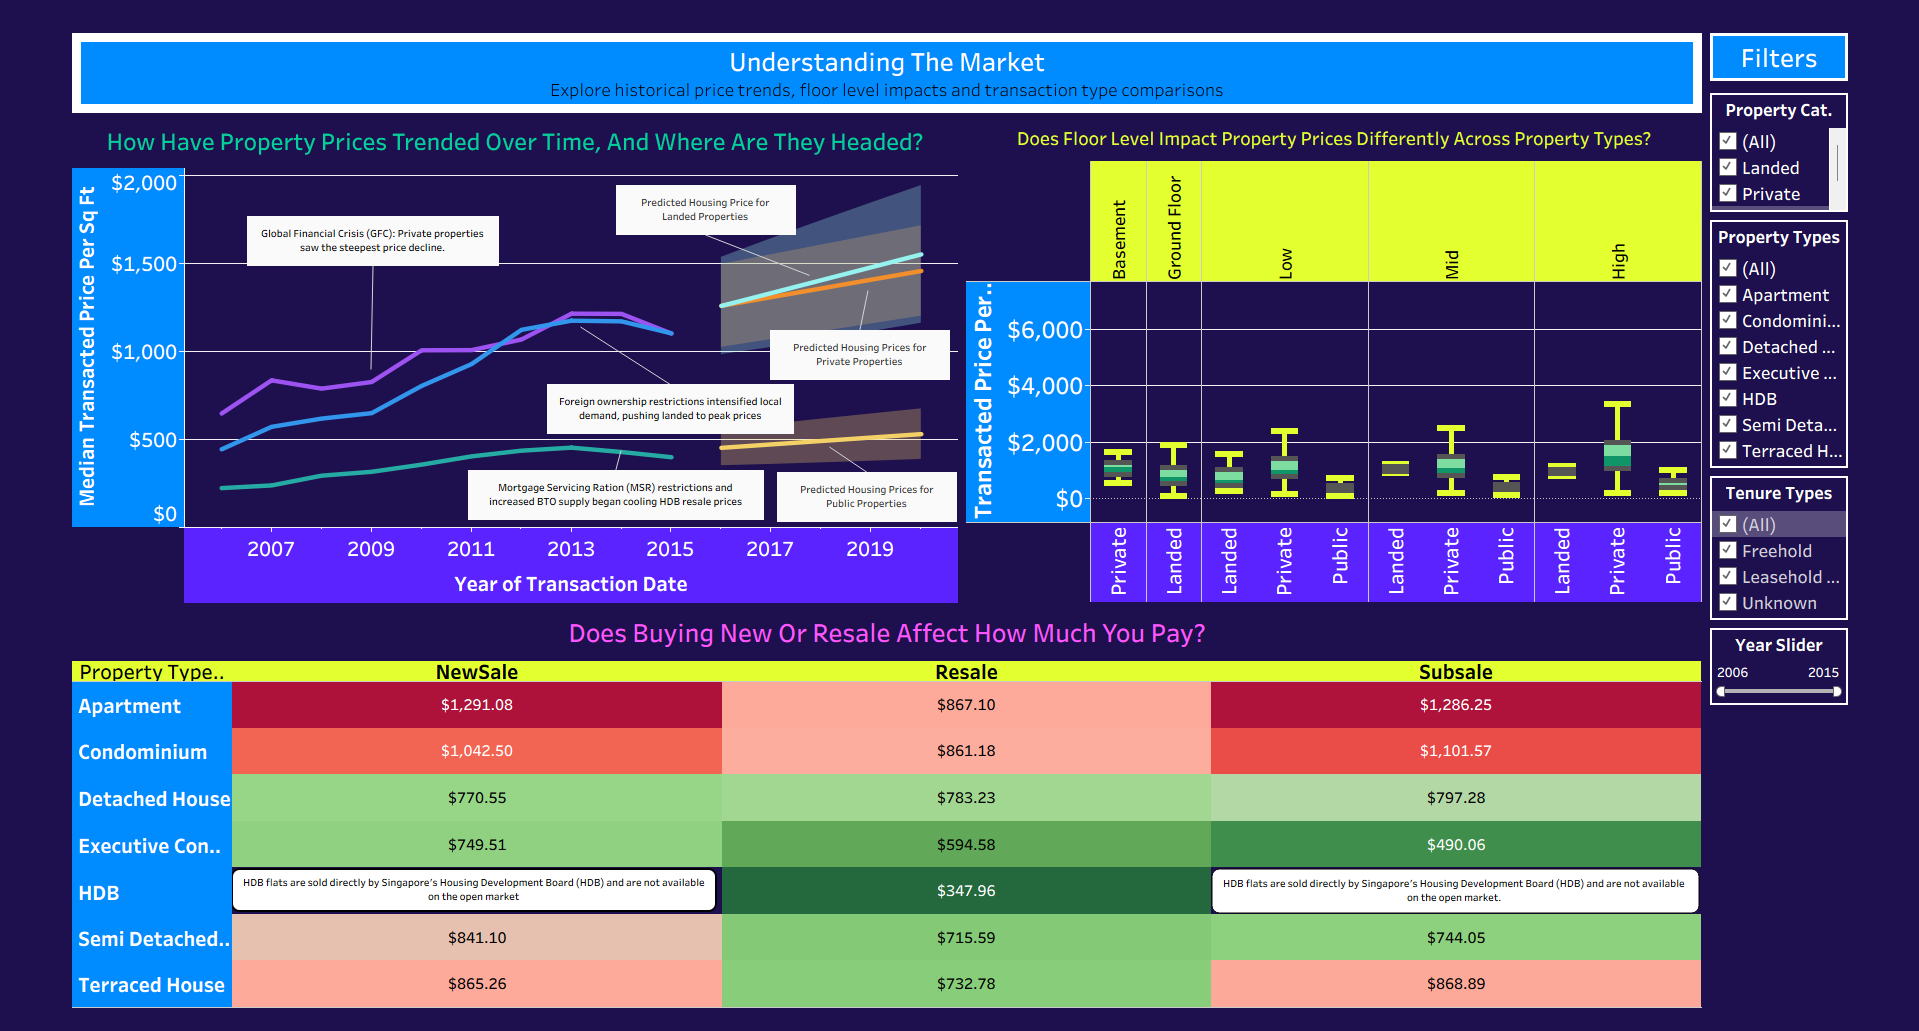

Layout of this report page (visuals, bound fields, positions):
{"tool":"tableau","page":{"name":"Dashboard 1 —  Understanding the Market","canvas":[1800,1000],"ordinal":0},"visuals":[{"type":"title","box":[8,8,1638,88]},{"type":"text","box":[1646,8,146,56]},{"type":"filter","title":"Chart 6 — Heatmap (Transaction Type vs Price)","param":"[federated.1q84nl109sxkft18igaiv0syhhrs].[none:PropertyCategory:nk]","box":[1646,68,146,127]},{"type":"worksheet","title":"Chart 1 — Line Chart","mark":"Line","rows":["TransactedPricePerSqFt"],"cols":["TransactionDate"],"box":[8,96,893.7,490]},{"type":"worksheet","title":"Chart 5 — Box Whisker (Floor Level vs Price)","mark":"Circle","rows":["TransactedPricePerSqFt"],"cols":["FloorCategory","PropertyCategory"],"box":[901.7,96,744.3,490]},{"type":"filter","title":"Chart 6 — Heatmap (Transaction Type vs Price)","param":"[federated.1q84nl109sxkft18igaiv0syhhrs].[none:PropertyTypeLabel:nk]","box":[1646,195,146,256]},{"type":"filter","title":"Chart 5 — Box Whisker (Floor Level vs Price)","param":"[federated.1q84nl109sxkft18igaiv0syhhrs].[none:PropertyTenureType:nk]","box":[1646,451,146,152]},{"type":"worksheet","title":"Chart 6 — Heatmap (Transaction Type vs Price)","mark":"Square","rows":["PropertyTypeLabel"],"cols":["TransactionType"],"box":[8,586,1638,406]},{"type":"filter","title":"Chart 6 — Heatmap (Transaction Type vs Price)","param":"[federated.1q84nl109sxkft18igaiv0syhhrs].[tyr:TransactionDate:qk]","box":[1646,603,146,85]}]}

Visuals, with their boxes on the page's 1800x1000 design canvas (x1, y1, x2, y2). These are canvas units, not pixel positions in the 1919x1031 screenshot, which may show the page scaled, cropped or inside an application window:
title: [x1=8, y1=8, x2=1646, y2=96]
text: [x1=1646, y1=8, x2=1792, y2=64]
"Chart 6 — Heatmap (Transaction Type vs Price)" filter: [x1=1646, y1=68, x2=1792, y2=195]
"Chart 1 — Line Chart" worksheet (Line marks): [x1=8, y1=96, x2=902, y2=586]
"Chart 5 — Box Whisker (Floor Level vs Price)" worksheet (Circle marks): [x1=902, y1=96, x2=1646, y2=586]
"Chart 6 — Heatmap (Transaction Type vs Price)" filter: [x1=1646, y1=195, x2=1792, y2=451]
"Chart 5 — Box Whisker (Floor Level vs Price)" filter: [x1=1646, y1=451, x2=1792, y2=603]
"Chart 6 — Heatmap (Transaction Type vs Price)" worksheet (Square marks): [x1=8, y1=586, x2=1646, y2=992]
"Chart 6 — Heatmap (Transaction Type vs Price)" filter: [x1=1646, y1=603, x2=1792, y2=688]
